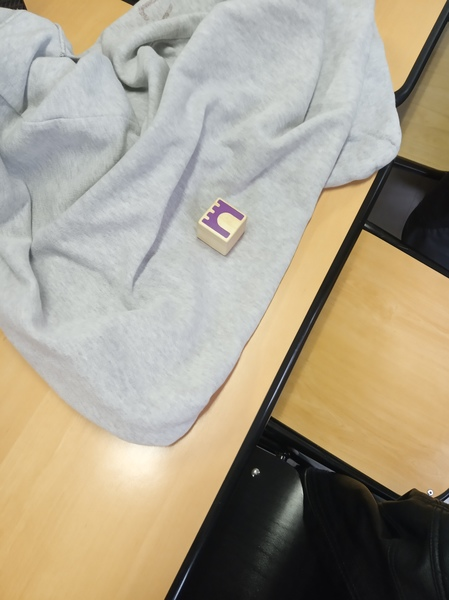violet: (197, 195, 247, 249)
